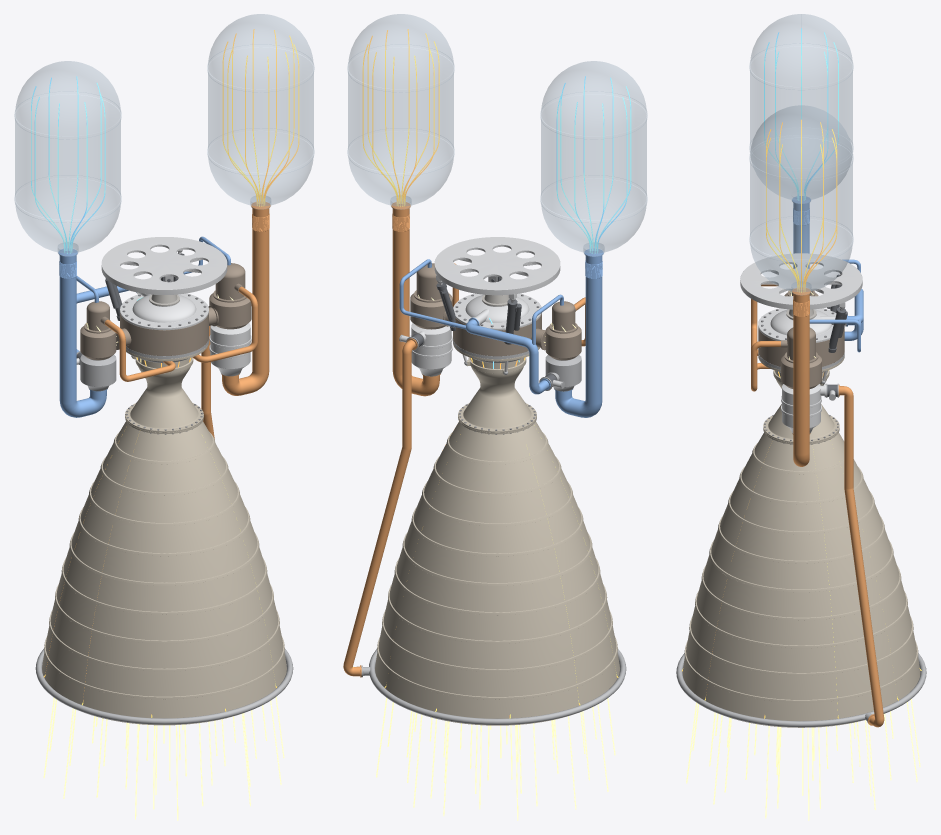
File: staged-combustion_d.glb
3 views of the same model, side by side, from view 1: azimuth 30°, elevation 25°; view 2: azimuth 150°, elevation 25°; view 3: azimuth 270°, elevation 25° (orthographic). The views are drawn at different scales.
Visible parts, largest first — view 1: SC_Nozzle, SC_TankOxidizer, SC_TankFuel, SC_ThrustMount, SC_ChamberJacket, SC_FeedLineFuel, SC_FeedLineOxidizer, SC_FLOW_HotGas, SC_FLOW_Fuel, SC_HotGasManifold, SC_OxidizerDome, SC_FuelManifold (+9 smaller); view 2: SC_Nozzle, SC_TankFuel, SC_TankOxidizer, SC_ThrustMount, SC_ChamberJacket, SC_CoolantFeedLine, SC_FeedLineOxidizer, SC_FLOW_HotGas, SC_FeedLineFuel, SC_FLOW_Fuel, SC_FuelManifold, SC_FLOW_Oxidizer (+10 smaller); view 3: SC_Nozzle, SC_TankFuel, SC_TankOxidizer, SC_ThrustMount, SC_CoolantFeedLine, SC_FLOW_HotGas, SC_FeedLineFuel, SC_FuelManifold, SC_FLOW_Fuel, SC_ChamberJacket, SC_OxidizerDome, SC_FLOW_Oxidizer (+9 smaller).
Boxes of the visible parts, x1,y1,x2,y2 form: SC_Nozzle: (42, 416, 286, 725); SC_TankOxidizer: (14, 61, 121, 256); SC_TankFuel: (207, 14, 314, 209); SC_ThrustMount: (101, 237, 227, 294); SC_ChamberJacket: (125, 342, 208, 432); SC_FeedLineFuel: (221, 202, 270, 395); SC_FeedLineOxidizer: (58, 248, 107, 417); SC_FLOW_HotGas: (43, 696, 284, 820); SC_FLOW_Fuel: (43, 29, 299, 717); SC_HotGasManifold: (116, 305, 218, 355); SC_OxidizerDome: (120, 292, 208, 330); SC_FuelManifold: (35, 649, 293, 724); SC_Nozzle: (375, 417, 619, 725); SC_TankFuel: (347, 14, 454, 209); SC_TankOxidizer: (540, 61, 647, 256); SC_ThrustMount: (434, 237, 560, 299); SC_ChamberJacket: (453, 342, 539, 432); SC_CoolantFeedLine: (343, 338, 417, 677); SC_FeedLineOxidizer: (554, 248, 603, 417); SC_FLOW_HotGas: (376, 697, 615, 820); SC_FeedLineFuel: (391, 202, 440, 396); SC_FLOW_Fuel: (353, 29, 618, 718); SC_FuelManifold: (361, 649, 626, 724); SC_FLOW_Oxidizer: (489, 76, 631, 368); SC_Nozzle: (682, 429, 920, 727); SC_TankFuel: (749, 105, 853, 295); SC_TankOxidizer: (749, 14, 853, 203); SC_ThrustMount: (740, 253, 862, 309); SC_CoolantFeedLine: (838, 384, 884, 727); SC_FLOW_HotGas: (686, 699, 920, 820); SC_FeedLineFuel: (792, 287, 810, 466); SC_FuelManifold: (676, 653, 926, 727); SC_FLOW_Fuel: (682, 119, 921, 718); SC_ChamberJacket: (758, 356, 844, 442); SC_OxidizerDome: (758, 308, 846, 342); SC_FLOW_Oxidizer: (764, 28, 838, 200).
Size of the model in its own units: 3.11 by 7.57 by 2.43.
